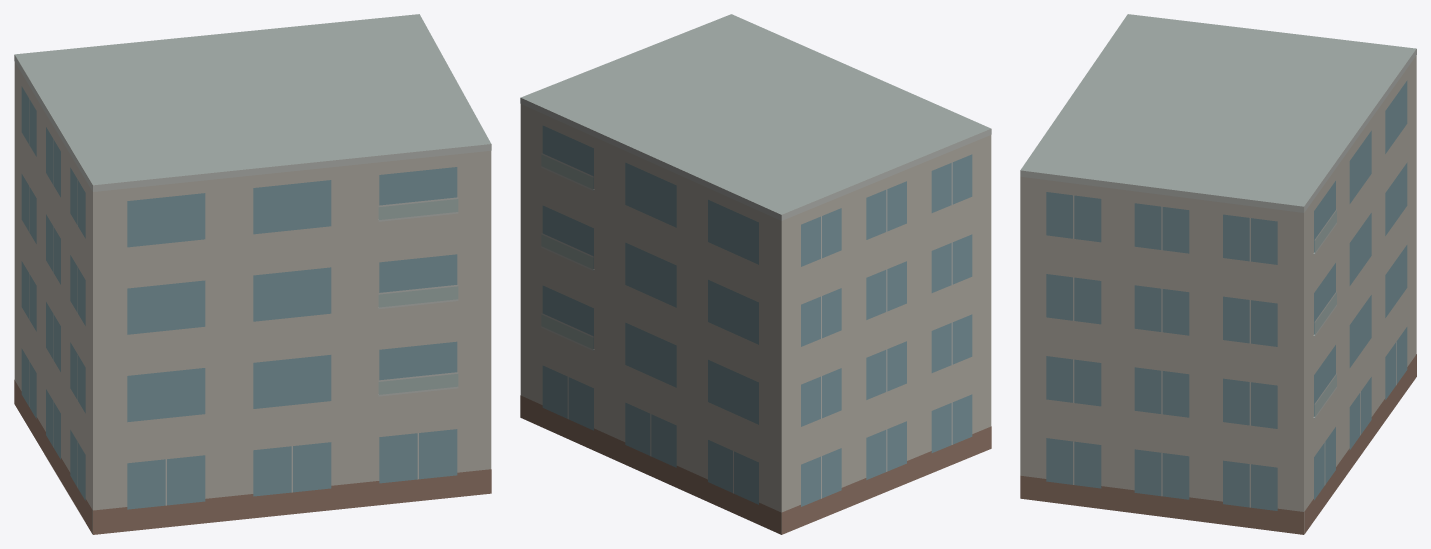
The model's file is survey-upis-32963651.glb.
3 renders of one model, left to right at view 1: azimuth 30°, elevation 25°; view 2: azimuth 150°, elevation 25°; view 3: azimuth 270°, elevation 25°, orthographic. The views are drawn at different scales.
Visible parts, largest first — view 1: survey-upis-32963651.tmp; view 2: survey-upis-32963651.tmp; view 3: survey-upis-32963651.tmp.
Part boxes in pixels (left/top/right/bottom): survey-upis-32963651.tmp: left=14, top=14, right=491, bottom=534; survey-upis-32963651.tmp: left=520, top=14, right=991, bottom=534; survey-upis-32963651.tmp: left=1020, top=14, right=1416, bottom=534.
Bounding box in the file's own units: 16.13 × 12.8 × 14.03.
